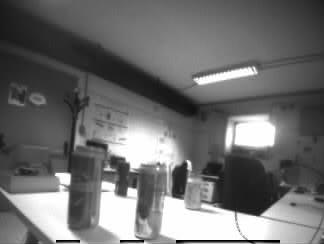Tin can: (69, 146, 102, 229), (135, 164, 163, 238), (185, 176, 201, 208), (115, 161, 129, 195)
